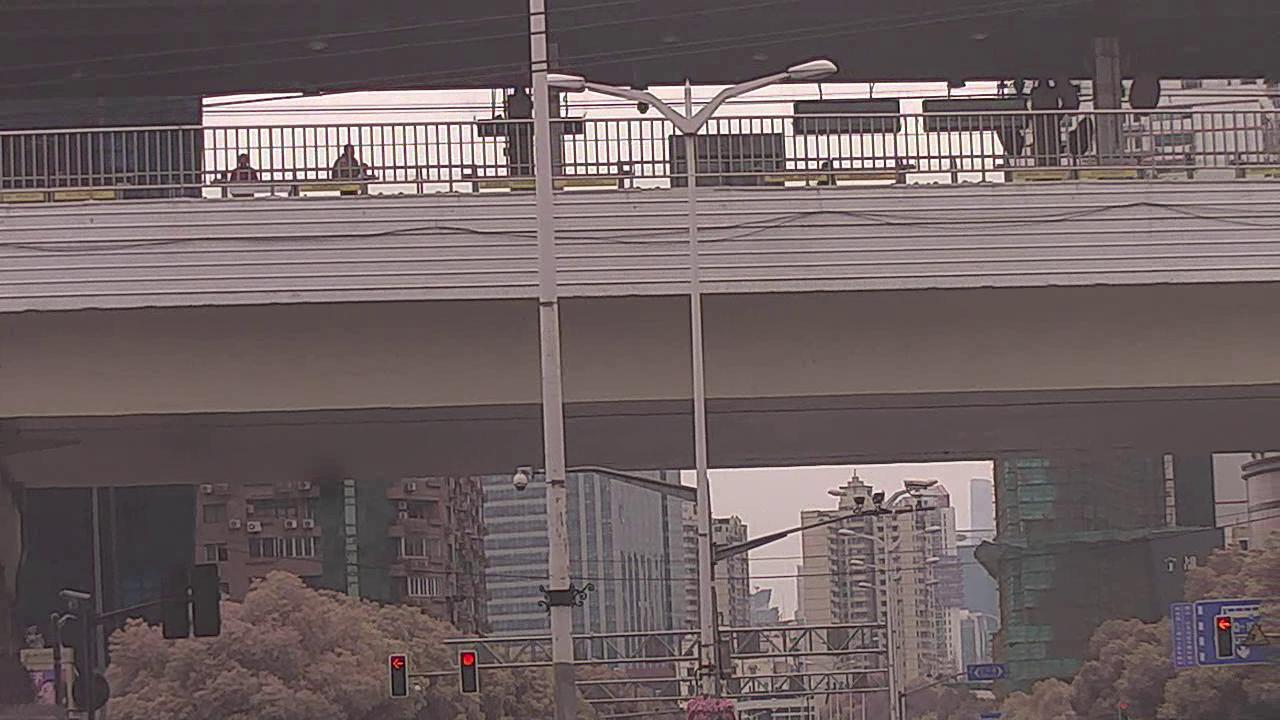traffic_light: (389, 652, 407, 697), (1216, 615, 1235, 657), (458, 650, 477, 691)
